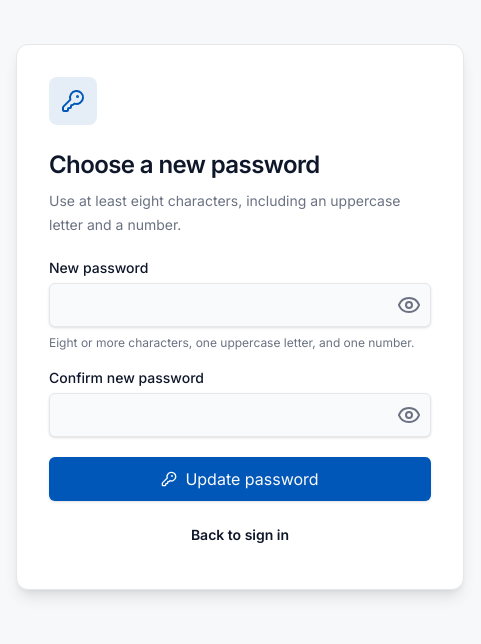
Test: PasswordRecoveryPage › shows corrective validation without submitting malformed values
Step 1. Type "short" into the password field labelled "New password" → x=240, y=305, box [49,283,431,327]
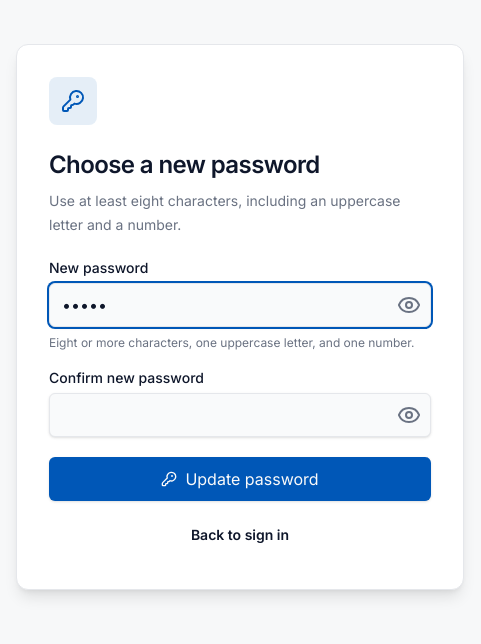
Step 2. Type "different" into the password field labelled "Confirm new password" → x=240, y=415, box [49,393,431,437]
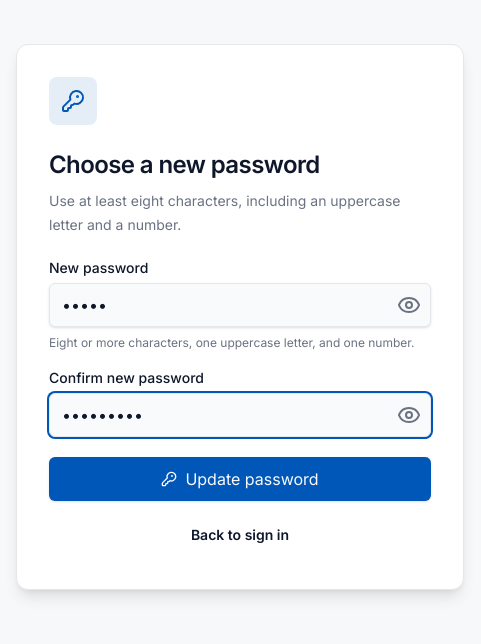
Step 3. Click the button "Update password" → x=240, y=479, box [49,457,431,501]
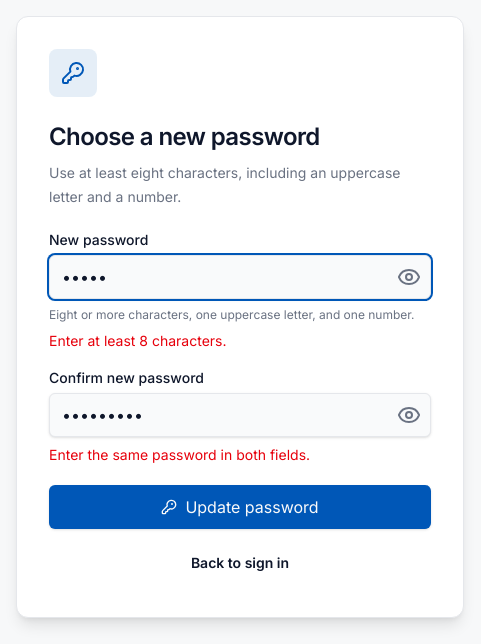
Result: the text "Enter at least 8 characters." is shown at [49,332,226,349]
